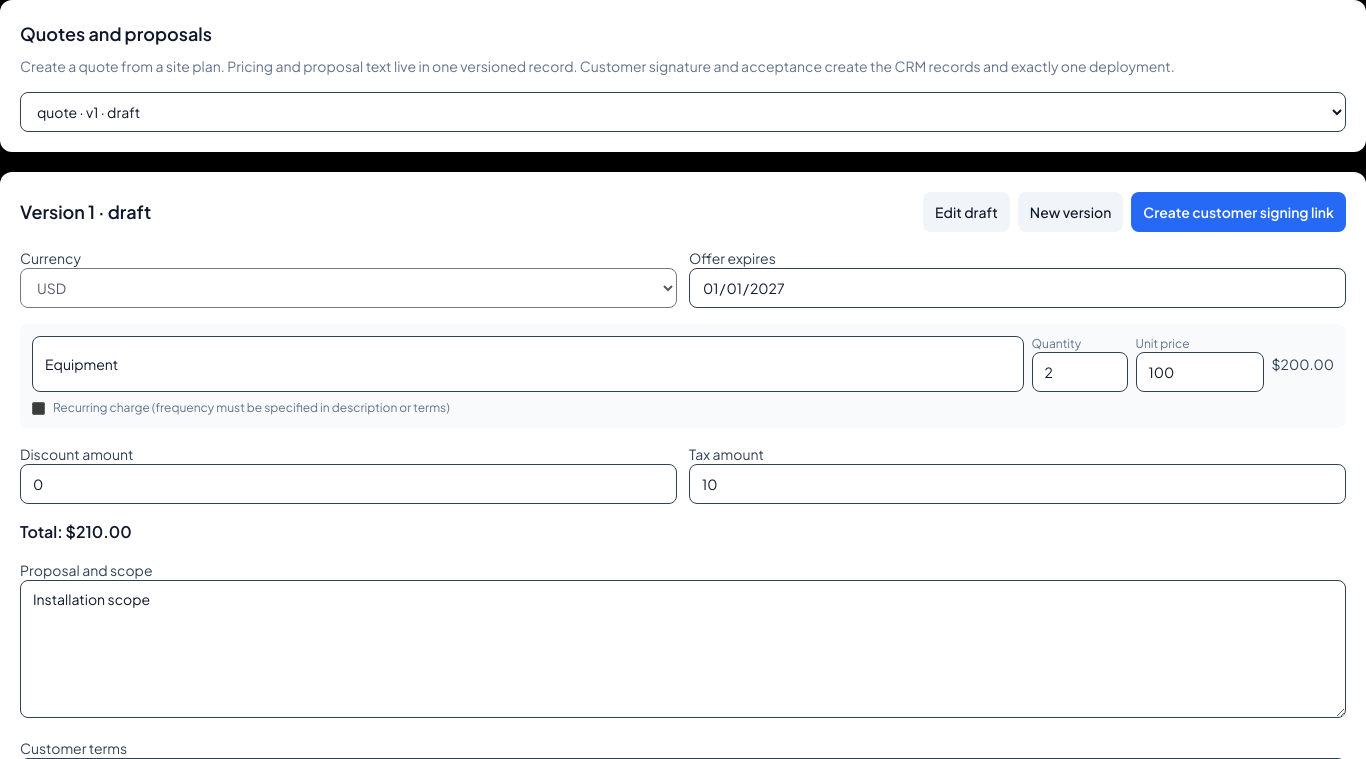
Test: quote and deployment controls › publishes a customer link but has no staff acceptance button
What coordinates should you click on to do the following:
click the button "Create customer signing link"
I would click on:
 (1239, 212)
Its box is top-left (1131, 192), bottom-right (1346, 232).
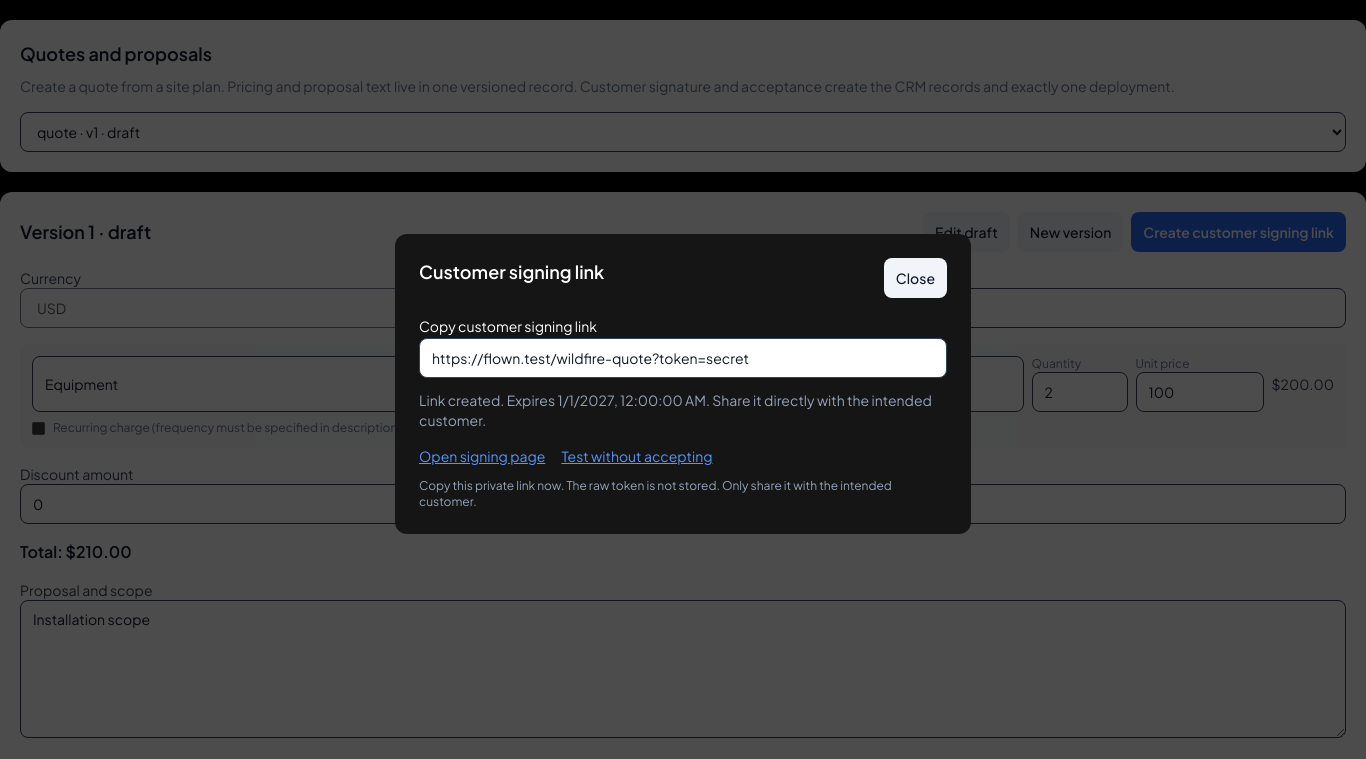
Result: the text "Share it directly with the intended customer." is shown at top-left (419, 391), bottom-right (932, 429)
Result: the link "Test without accepting" is shown at top-left (561, 446), bottom-right (712, 466)
